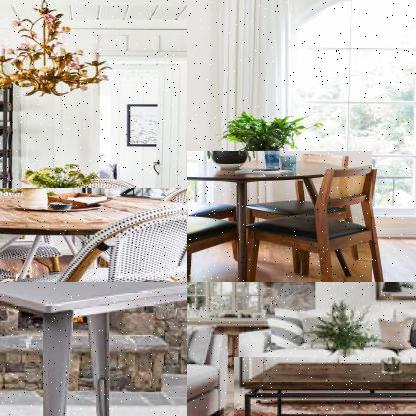table: (0, 282, 186, 415), (187, 151, 373, 281), (0, 188, 186, 281), (233, 357, 415, 415)
